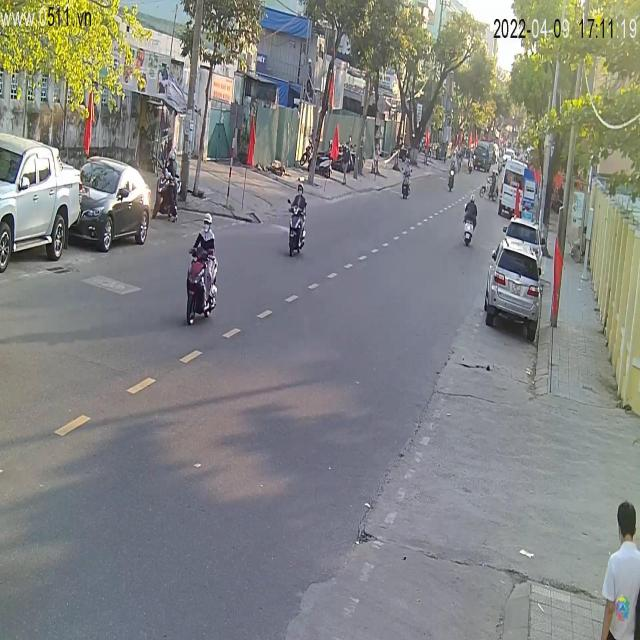bus: (496, 158, 538, 220)
car: (1, 128, 82, 278), (73, 157, 154, 253), (487, 239, 542, 339)
motorcycle: (185, 253, 219, 324), (286, 190, 310, 262), (402, 165, 411, 199), (464, 222, 475, 248)
